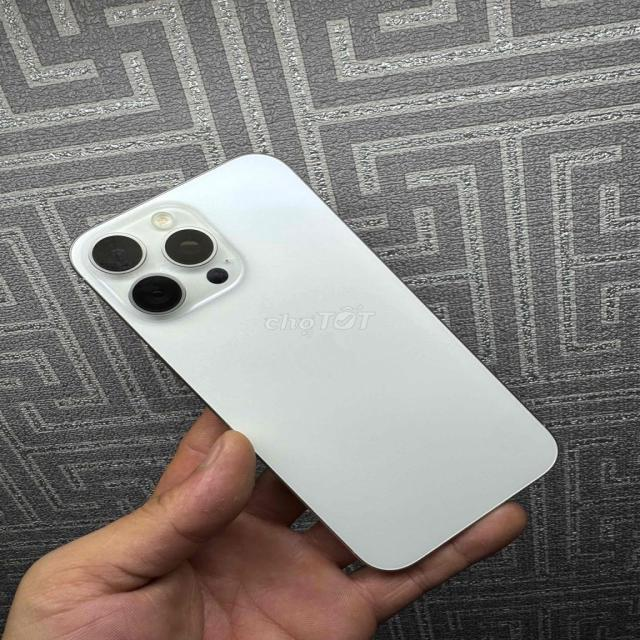gen_16: (69, 154, 557, 571)
